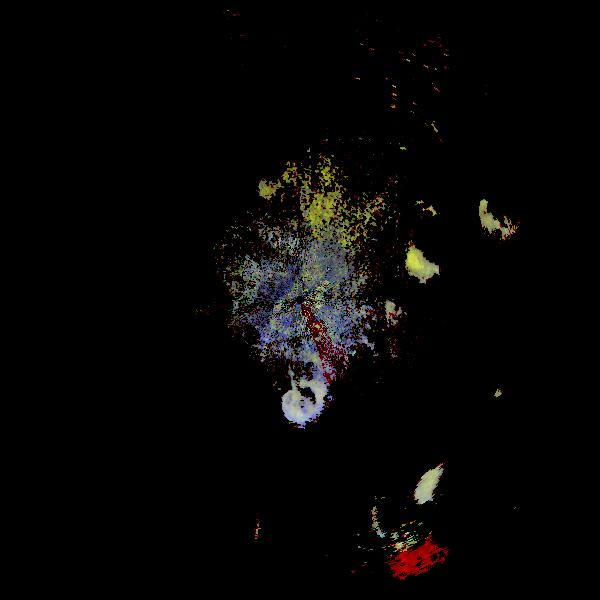roost: (369, 165, 498, 294), (392, 415, 500, 523), (254, 341, 350, 437), (365, 250, 446, 331), (356, 474, 431, 549)
